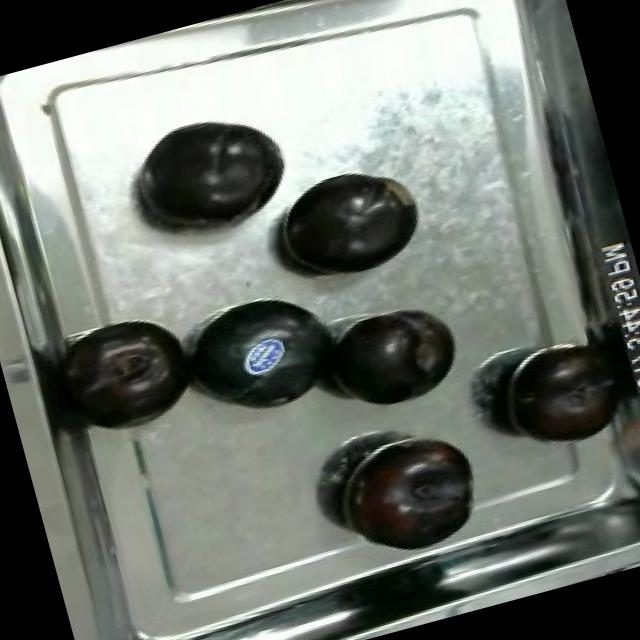Fruit: (172, 275, 358, 434), (121, 94, 298, 247), (320, 418, 494, 571), (262, 151, 439, 297), (482, 323, 640, 467), (316, 290, 474, 424), (66, 303, 204, 438)
